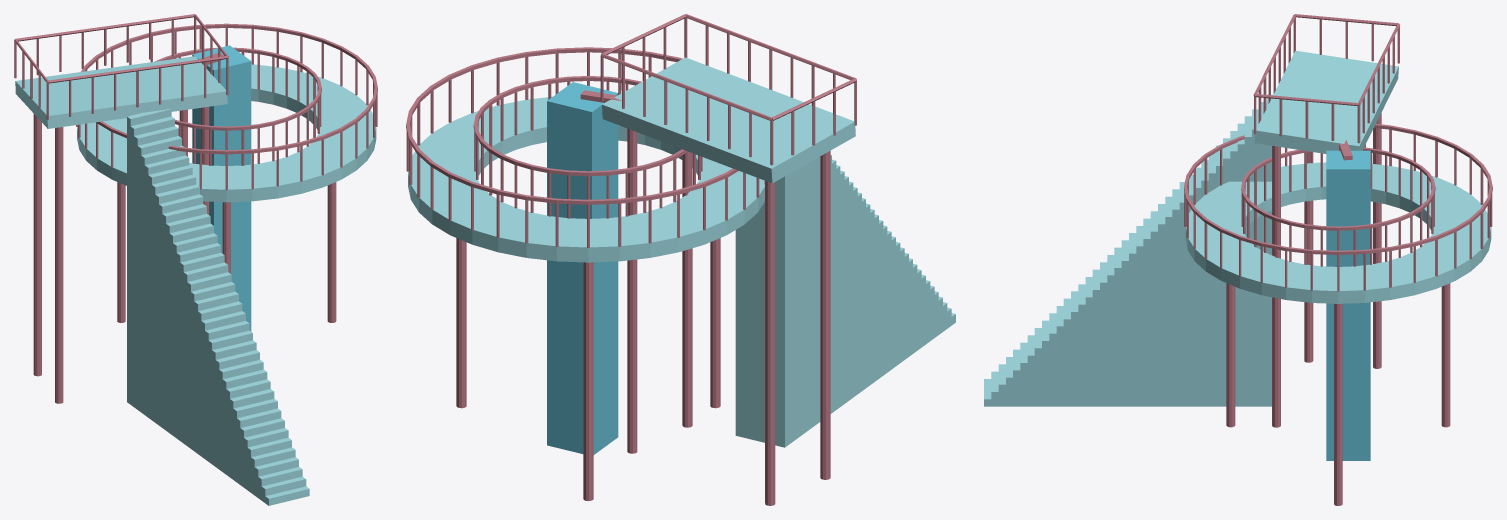
File: folie_tag_081.glb
3 views of the same model, side by side, from view 1: azimuth 30°, elevation 25°; view 2: azimuth 150°, elevation 25°; view 3: azimuth 270°, elevation 25° (orthographic). The views are drawn at different scales.
Parts seen in each view (by area): view 1: folie_tag_081_stairs, folie_tag_081_line, folie_tag_081_00_ring, folie_tag_081_01_plate, folie_tag_081_core; view 2: folie_tag_081_line, folie_tag_081_stairs, folie_tag_081_00_ring, folie_tag_081_core, folie_tag_081_01_plate; view 3: folie_tag_081_stairs, folie_tag_081_line, folie_tag_081_00_ring, folie_tag_081_core, folie_tag_081_01_plate.
Part boxes in pixels (bbox=[...]): folie_tag_081_stairs: bbox=[127, 109, 309, 505]; folie_tag_081_line: bbox=[14, 14, 377, 403]; folie_tag_081_00_ring: bbox=[77, 64, 376, 202]; folie_tag_081_01_plate: bbox=[15, 56, 227, 128]; folie_tag_081_core: bbox=[192, 45, 251, 331]; folie_tag_081_line: bbox=[406, 14, 856, 505]; folie_tag_081_stairs: bbox=[735, 155, 955, 447]; folie_tag_081_00_ring: bbox=[408, 96, 764, 262]; folie_tag_081_core: bbox=[547, 82, 618, 454]; folie_tag_081_01_plate: bbox=[602, 57, 855, 183]; folie_tag_081_stairs: bbox=[984, 94, 1272, 406]; folie_tag_081_line: bbox=[1184, 14, 1492, 505]; folie_tag_081_00_ring: bbox=[1185, 162, 1491, 303]; folie_tag_081_core: bbox=[1326, 150, 1370, 460]; folie_tag_081_01_plate: bbox=[1254, 50, 1398, 153].
Size of the model in its own units: 9.75 by 9.26 by 12.65.
